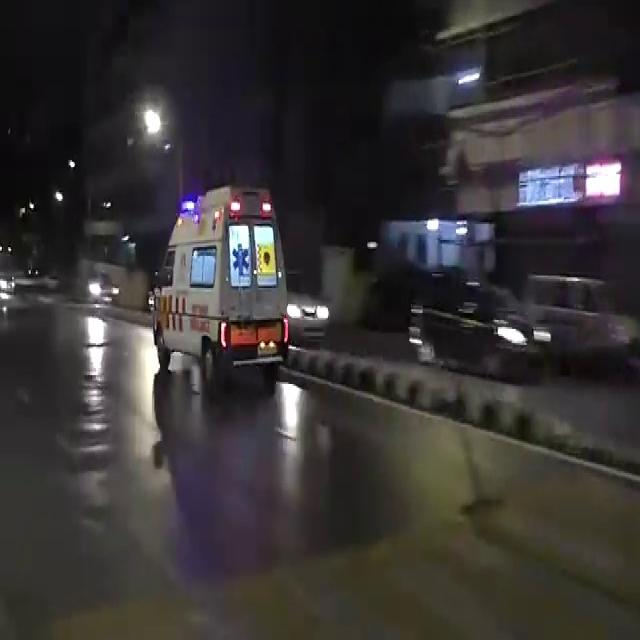ambulance: (145, 186, 309, 356)
